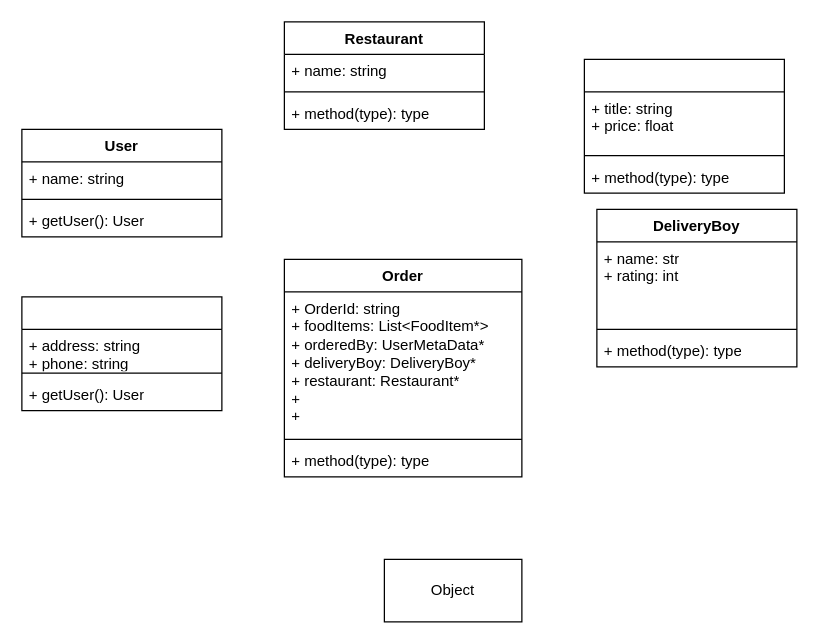
This 819x644 diagram has some shape labels left out. The box of each missing label's shape, as (x1, y1, x2, y2) in pixels:
FoodItem: (583, 58, 784, 193)
UserMetaData: (21, 296, 222, 411)
